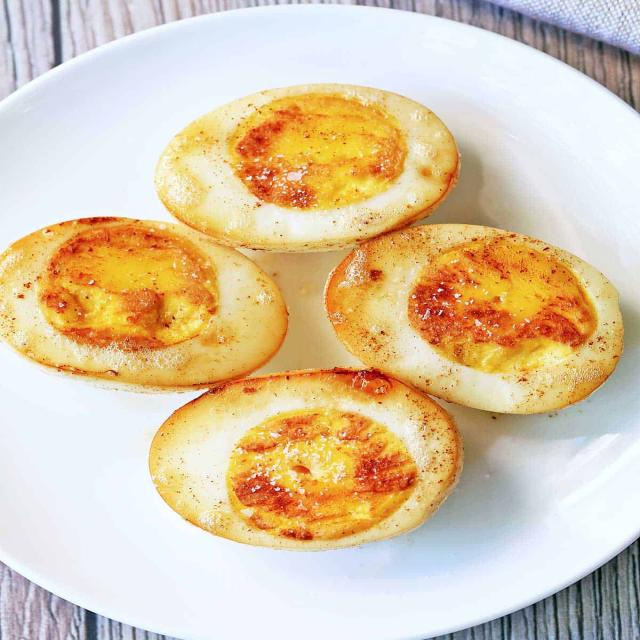Egg: (150, 368, 462, 550), (325, 224, 623, 414), (155, 84, 458, 251), (2, 218, 288, 390)
